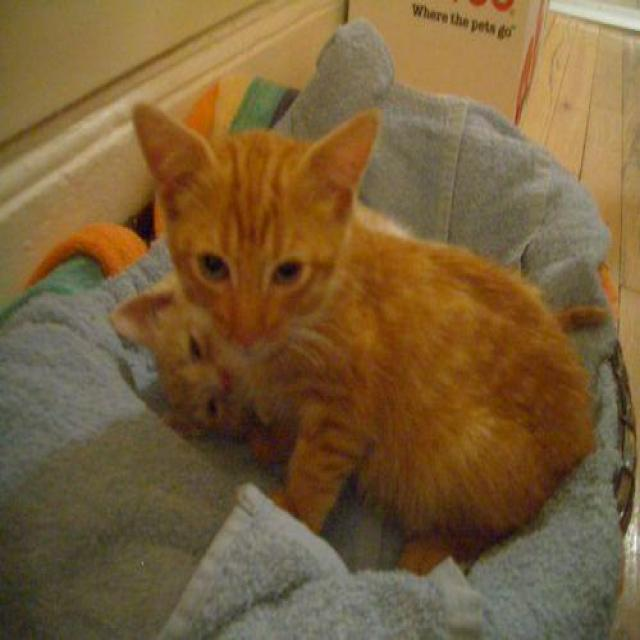Cats: (118, 99, 606, 567)
